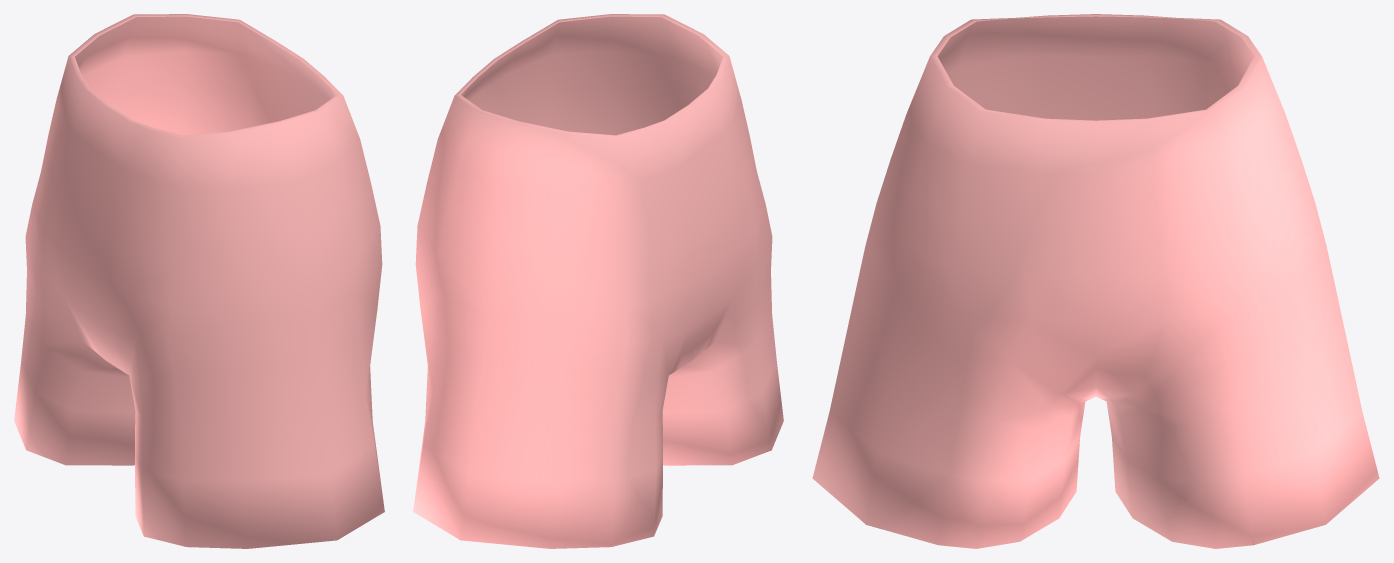
File: pants_clayshorts.gltf
3 views of the same model, side by side, from view 1: azimuth 30°, elevation 25°; view 2: azimuth 150°, elevation 25°; view 3: azimuth 270°, elevation 25° (orthographic). The views are drawn at different scales.
Visible parts, largest first — view 1: Shorts; view 2: Shorts; view 3: Shorts.
Boxes of the visible parts, box(x1,y1,x2,y2) form: Shorts: box(14, 14, 384, 548); Shorts: box(413, 14, 783, 548); Shorts: box(812, 14, 1379, 548).
Bounding box in the file's own units: 0.2151 × 0.3213 × 0.3747.
Materials: 1 (1 with a texture image).
